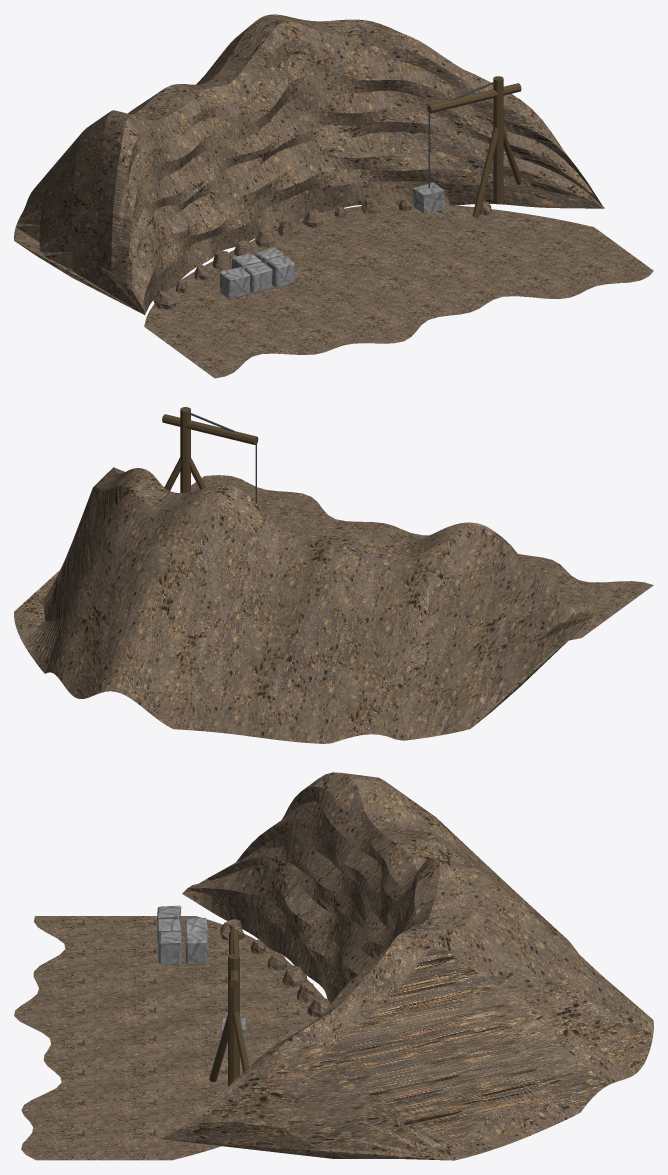
Rendered from QuarryGeologyV18.glb.
3 views of the same model, one above another, from view 1: azimuth 30°, elevation 25°; view 2: azimuth 150°, elevation 25°; view 3: azimuth 270°, elevation 25° (orthographic). The views are drawn at different scales.
Parts seen in each view (by area): view 1: Quarry Geological Scarp / continuous inspected source v18, Connected graded extraction apron, Retained functional quarry equipment / Quarry timber derrick, Retained functional quarry equipment / Quarry extracted lime; view 2: Quarry Geological Scarp / continuous inspected source v18, Connected graded extraction apron, Retained functional quarry equipment / Quarry timber derrick; view 3: Quarry Geological Scarp / continuous inspected source v18, Connected graded extraction apron, Retained functional quarry equipment / Quarry timber derrick, Retained functional quarry equipment / Quarry extracted lime.
Boxes of the visible parts, x1,y1,x2,y2 form: Quarry Geological Scarp / continuous inspected source v18: (14,14,604,314); Connected graded extraction apron: (144,203,653,378); Retained functional quarry equipment / Quarry timber derrick: (413,76,521,217); Retained functional quarry equipment / Quarry extracted lime: (219,247,294,299); Quarry Geological Scarp / continuous inspected source v18: (14,467,592,743); Connected graded extraction apron: (191,475,653,640); Retained functional quarry equipment / Quarry timber derrick: (162,407,272,521); Quarry Geological Scarp / continuous inspected source v18: (160,772,653,1160); Connected graded extraction apron: (14,916,324,1160); Retained functional quarry equipment / Quarry timber derrick: (209,929,249,1086); Retained functional quarry equipment / Quarry extracted lime: (157,905,208,965).
Size of the model in its own units: 18.43 by 6.55 by 19.7.
6 materials, 4 textured.
